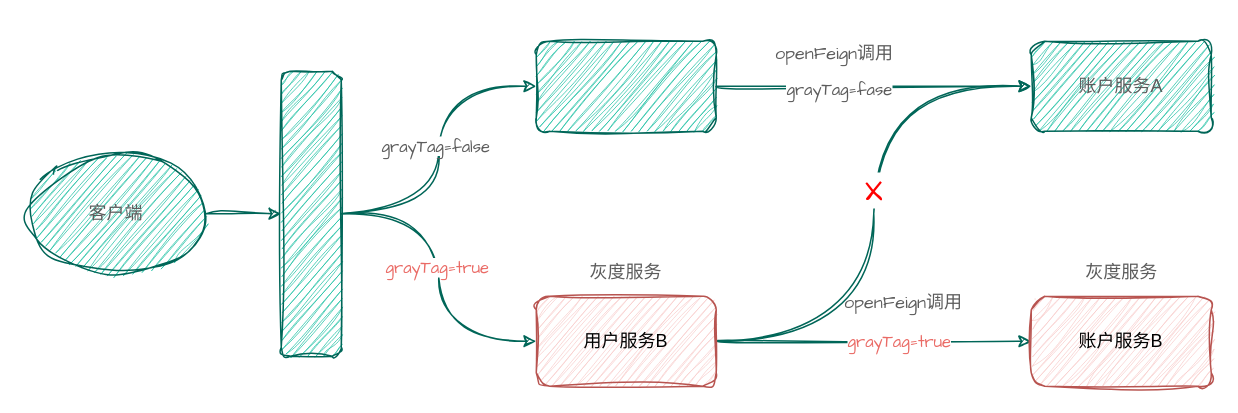
The diagram is 1238 pixels wide and 413 high, and some of its shapes have lost their labels. The shapes that lost their labels are listed below. From the top down, each one's centre as x and y in pixels, then its label:
At [625,85]: "用户服务A".
At [310,213]: "网关".
